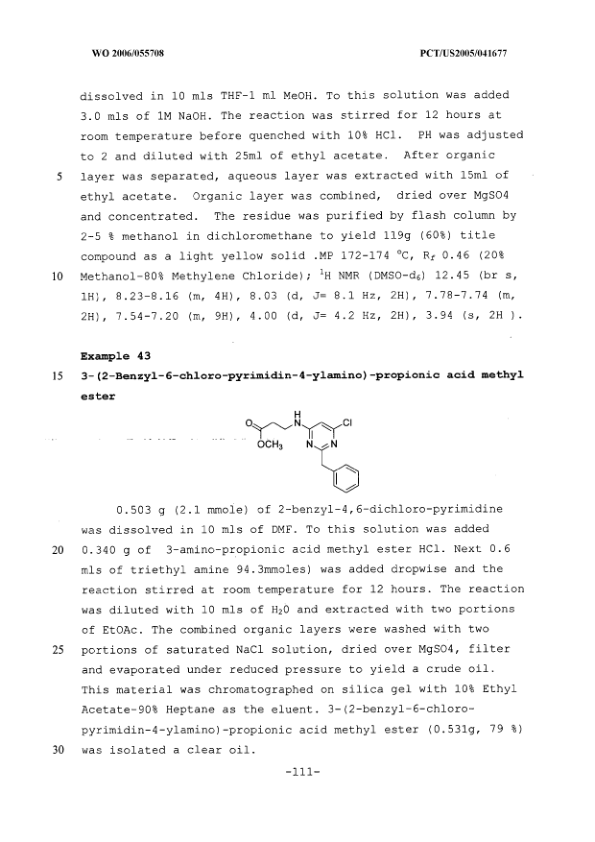compound-structure: (221, 397, 399, 495)
